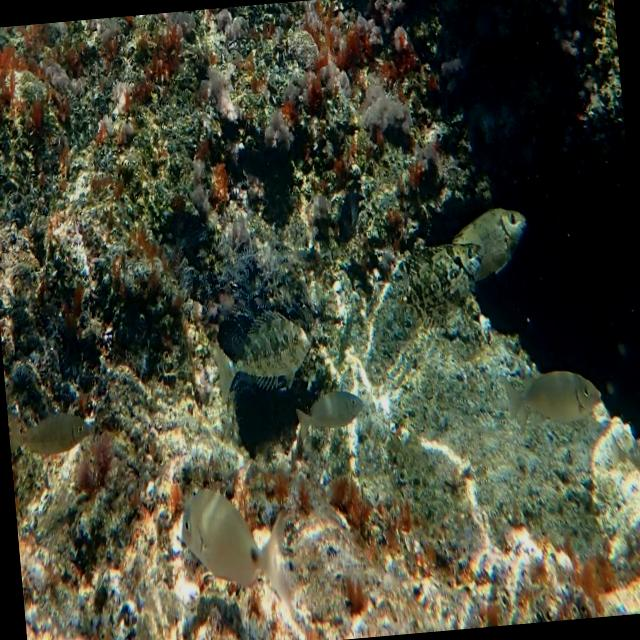Sokar Baligi: (160, 472, 308, 637), (202, 293, 324, 417), (493, 356, 609, 442)
